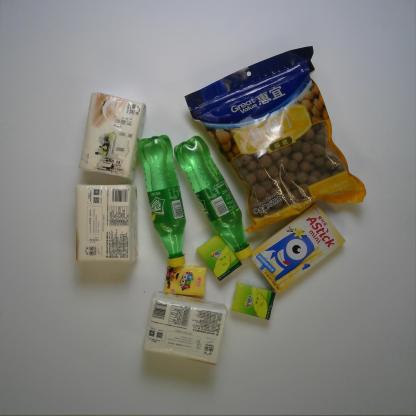Dessert: (248, 200, 347, 295)
Dried Food: (182, 42, 368, 233)
Drink: (172, 134, 252, 261), (136, 132, 188, 268)
Tissue: (141, 288, 231, 369), (77, 90, 147, 181), (74, 180, 141, 266), (195, 230, 243, 284), (229, 280, 277, 322), (164, 263, 209, 299)
